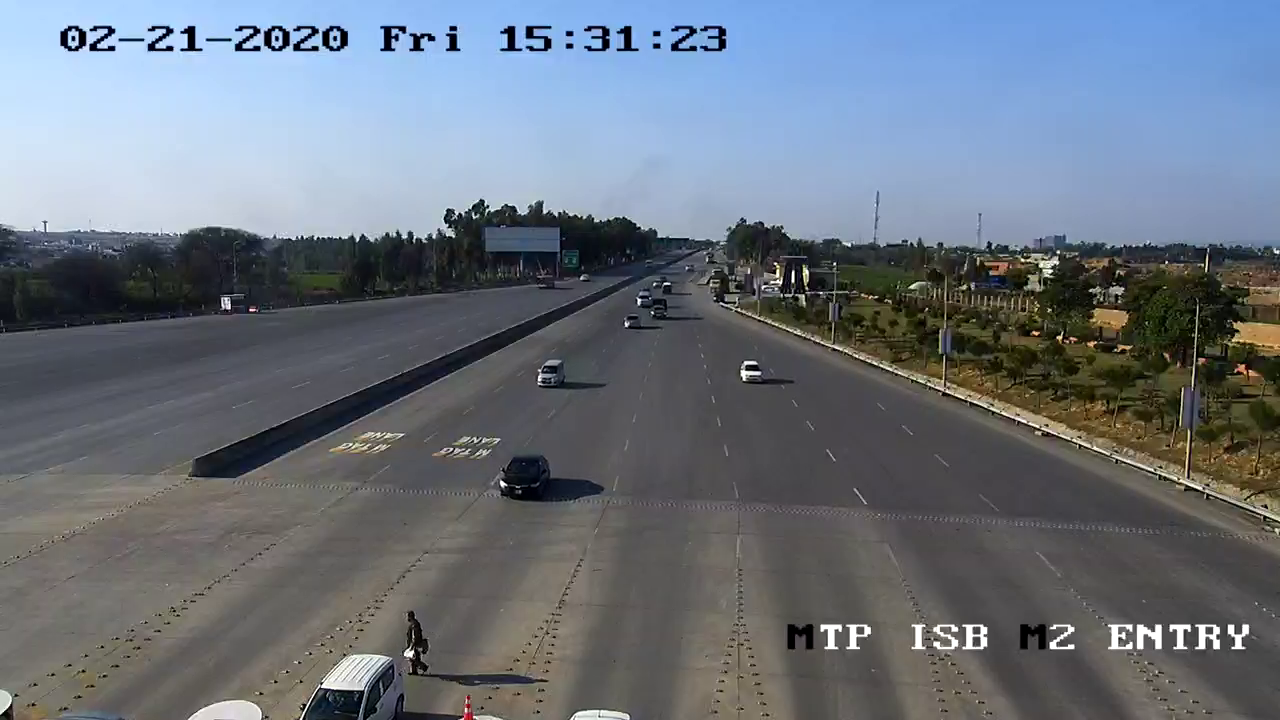f1: (488, 446, 565, 512), (528, 349, 571, 397), (729, 349, 771, 391)
